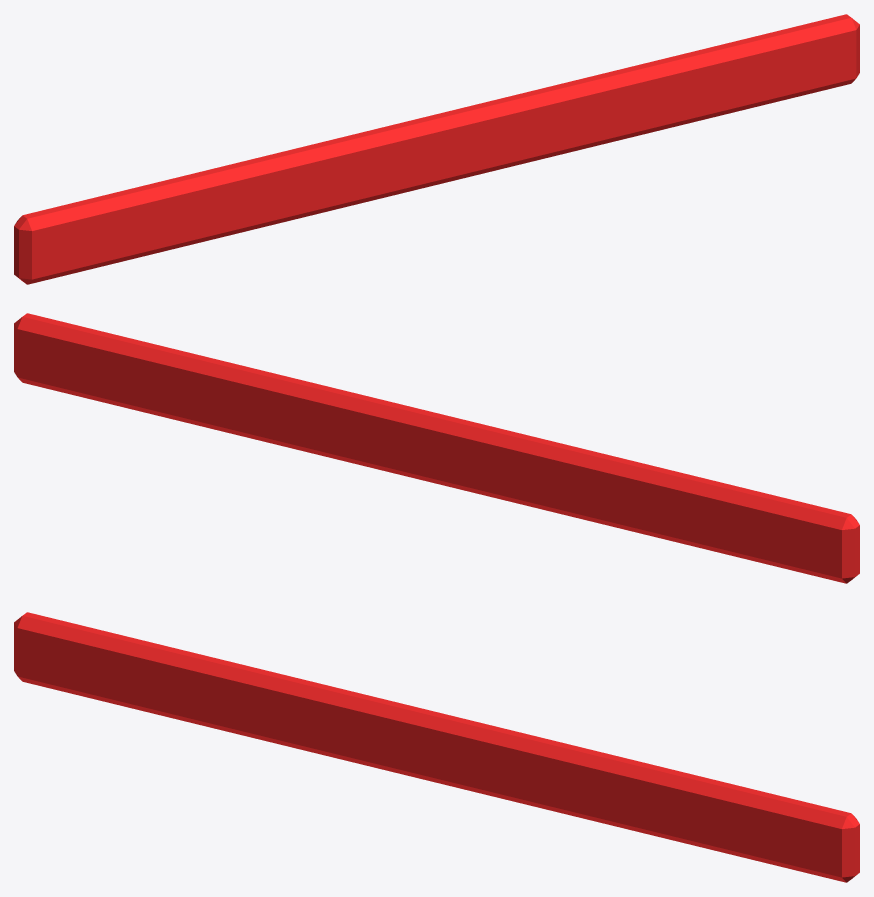
Rendered from led_strip_alarm_lens.glb.
The picture shows the model from 3 angles, top to bottom: view 1: azimuth 30°, elevation 25°; view 2: azimuth 150°, elevation 25°; view 3: azimuth 330°, elevation 25°; orthographic projection.
Parts seen in each view (by area): view 1: LedStripLens; view 2: LedStripLens; view 3: LedStripLens.
Part boxes in pixels (bbox=[...]): LedStripLens: bbox=[14, 14, 859, 284]; LedStripLens: bbox=[14, 313, 859, 583]; LedStripLens: bbox=[14, 612, 859, 882].
Size of the model in its own units: 0.04 by 0.003 by 0.0012.
